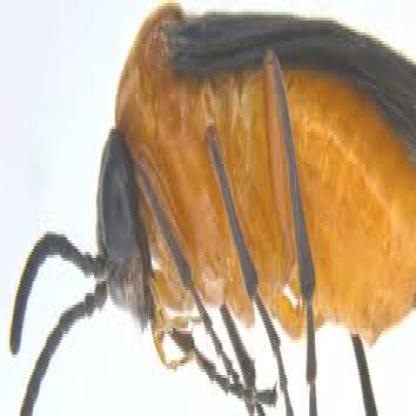sawfly: (9, 0, 416, 414)
